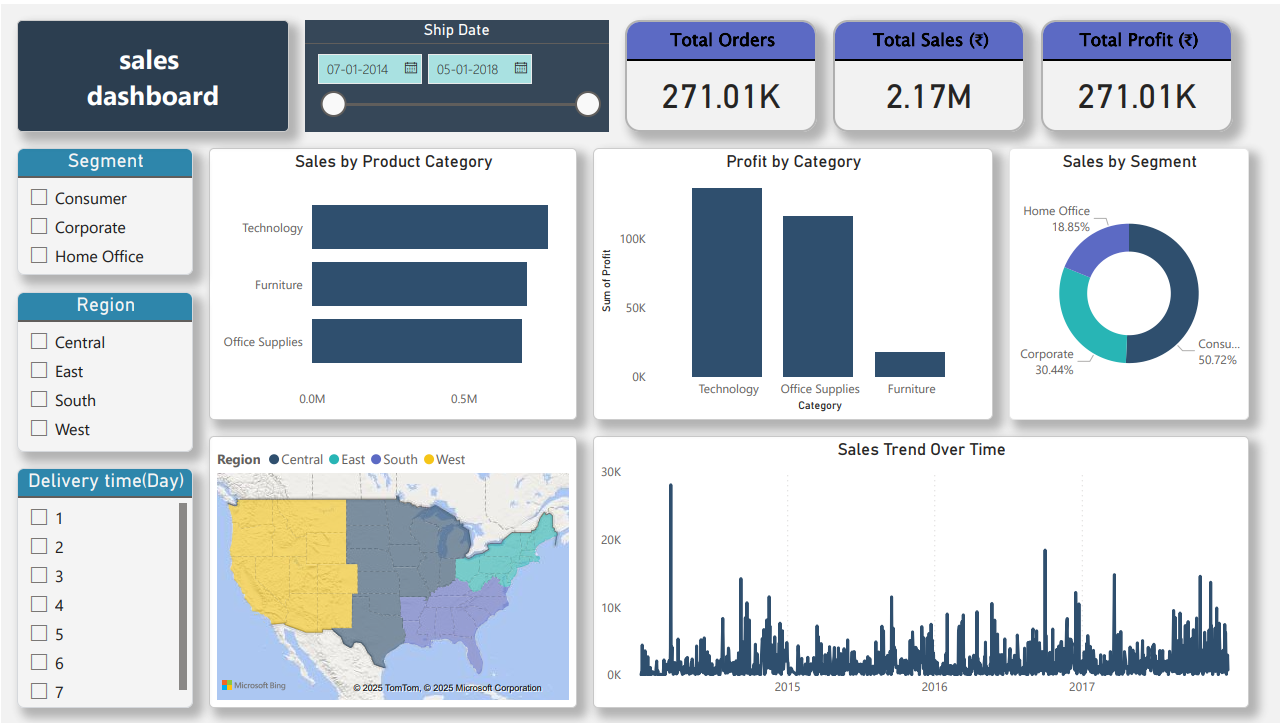

The page's visual inventory and layout, read from the dashboard file:
{"tool":"powerbi","page":{"name":"Dashboard","canvas":[1280,720],"ordinal":0},"visuals":[{"type":"card","title":"Total Sales (₹)","fields":{"Values":["Sum(store.Sales)"]},"box":[832,16,192,112],"z":0},{"type":"card","title":"Total Orders","fields":{"Values":["Sum(store.Profit)"]},"box":[624,16,192,112],"z":1000},{"type":"card","title":"Total Profit (₹)","fields":{"Values":["Sum(store.Profit)"]},"box":[1040,16,192,112],"z":2000},{"type":"lineChart","title":"Sales Trend Over Time","fields":{"Category":["store.Order Date"],"Y":["Sum(store.Sales)"]},"box":[592,432,656,272],"z":3000},{"type":"columnChart","title":"Profit by Category","fields":{"Category":["store.Category"],"Y":["Sum(store.Profit)"]},"box":[592,144,400,272],"z":4000},{"type":"filledMap","fields":{"Category":["store.State","store.City"],"Series":["store.Region"]},"box":[208,432,368,272],"z":5000},{"type":"donutChart","title":"Sales by Segment","fields":{"Y":["Sum(store.Sales)"],"Category":["store.Segment"]},"box":[1008,144,240,272],"z":6000},{"type":"barChart","title":"Sales by Product Category","fields":{"Y":["Sum(store.Sales)"],"Category":["store.Category"]},"box":[208,144,368,272],"z":7000},{"type":"slicer","title":"Segment","fields":{"Values":["store.Segment"]},"box":[15.7,143.6,176.1,127.9],"z":8000},{"type":"slicer","title":"Ship Date","fields":{"Values":["store.Ship Date"]},"box":[304,16,304,112],"z":9000},{"type":"slicer","title":"Region","fields":{"Values":["store.Region"]},"box":[16,288,176,160],"z":10000},{"type":"slicer","title":"Delivery time(Day)","fields":{"Values":["store.Delivery Time"]},"box":[16,464,176,240],"z":11000},{"type":"textbox","box":[16,16,272,112],"z":12000}]}

Visuals, with their boxes in screenshot pixels (x1, y1, x2, y2), scaled from the page's 1280x720 canvas onto the 1280x723 screenshot:
"Total Sales (₹)" card: pyautogui.locateOnScreen(832, 16, 1024, 129)
"Total Orders" card: pyautogui.locateOnScreen(624, 16, 816, 129)
"Total Profit (₹)" card: pyautogui.locateOnScreen(1040, 16, 1232, 129)
"Sales Trend Over Time" lineChart: pyautogui.locateOnScreen(592, 434, 1248, 707)
"Profit by Category" columnChart: pyautogui.locateOnScreen(592, 145, 992, 418)
filledMap - store.State x store.City: pyautogui.locateOnScreen(208, 434, 576, 707)
"Sales by Segment" donutChart: pyautogui.locateOnScreen(1008, 145, 1248, 418)
"Sales by Product Category" barChart: pyautogui.locateOnScreen(208, 145, 576, 418)
"Segment" slicer: pyautogui.locateOnScreen(16, 144, 192, 273)
"Ship Date" slicer: pyautogui.locateOnScreen(304, 16, 608, 129)
"Region" slicer: pyautogui.locateOnScreen(16, 289, 192, 450)
"Delivery time(Day)" slicer: pyautogui.locateOnScreen(16, 466, 192, 707)
textbox: pyautogui.locateOnScreen(16, 16, 288, 129)
